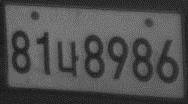1: (34, 30, 51, 77)
6: (156, 38, 180, 84)
8: (82, 32, 106, 78), (131, 36, 154, 82), (10, 29, 32, 74)
9: (106, 35, 129, 79)
나: (55, 39, 80, 78)
